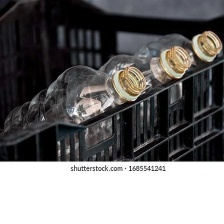bottle: (0, 60, 149, 156), (83, 42, 194, 127), (125, 30, 221, 95)
